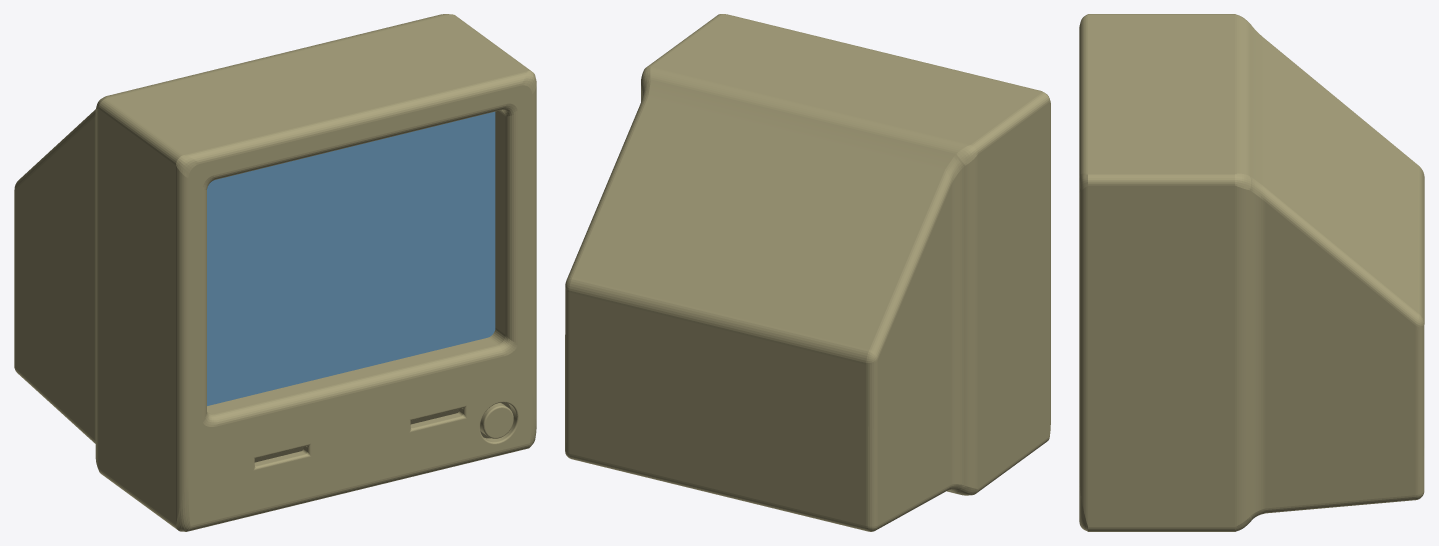
File: Computer.fbx
3 views of the same model, side by side, from view 1: azimuth 30°, elevation 25°; view 2: azimuth 150°, elevation 25°; view 3: azimuth 270°, elevation 25° (orthographic). The views are drawn at different scales.
Parts seen in each view (by area): view 1: Monitor; view 2: Monitor; view 3: Monitor.
Part boxes in pixels (x1,y1,x2,y2): Monitor: [14, 14, 536, 531]; Monitor: [565, 14, 1050, 531]; Monitor: [1079, 14, 1424, 531].
Size of the model in its own units: 1200 by 1200 by 1050.
